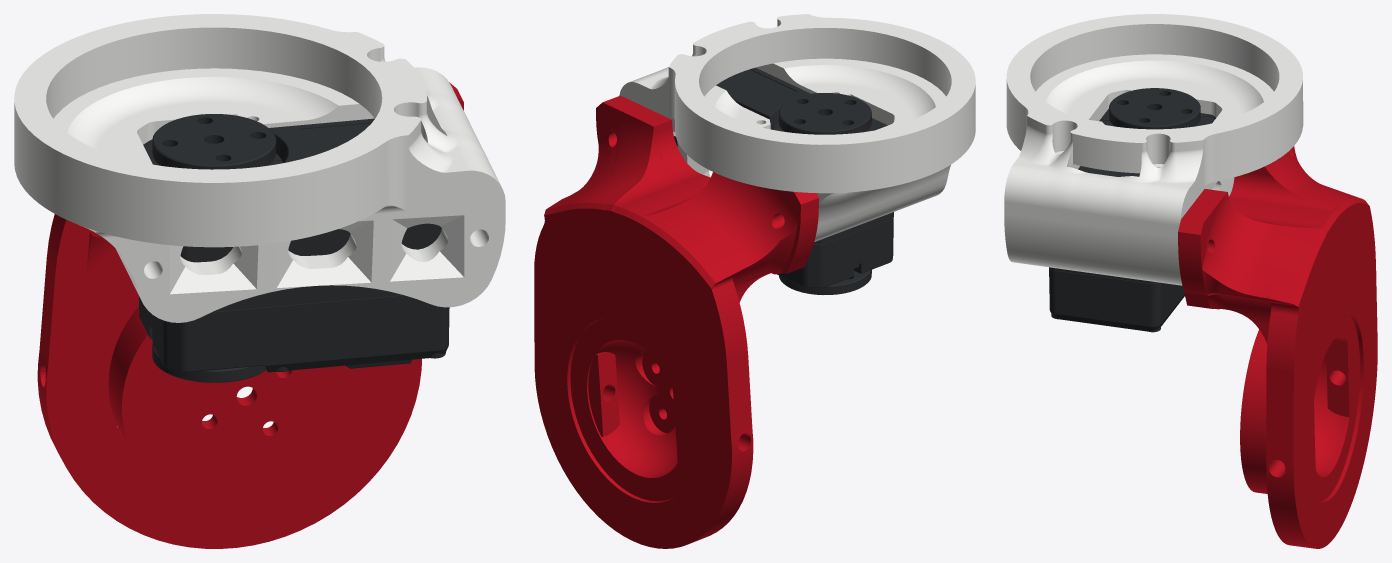
Rendered from Link5_Wrist2.dae.
3 renders of one model, left to right at view 1: azimuth 30°, elevation 25°; view 2: azimuth 150°, elevation 25°; view 3: azimuth 270°, elevation 25°, orthographic. The views are drawn at different scales.
Parts seen in each view (by area): view 1: Link5_Wrist2; view 2: Link5_Wrist2; view 3: Link5_Wrist2.
Part boxes in pixels (left/top/right/bottom): Link5_Wrist2: left=14, top=14, right=505, bottom=548; Link5_Wrist2: left=534, top=14, right=975, bottom=548; Link5_Wrist2: left=1004, top=14, right=1377, bottom=548.
Size of the model in its own units: 0.0835 by 0.0781 by 0.095.
